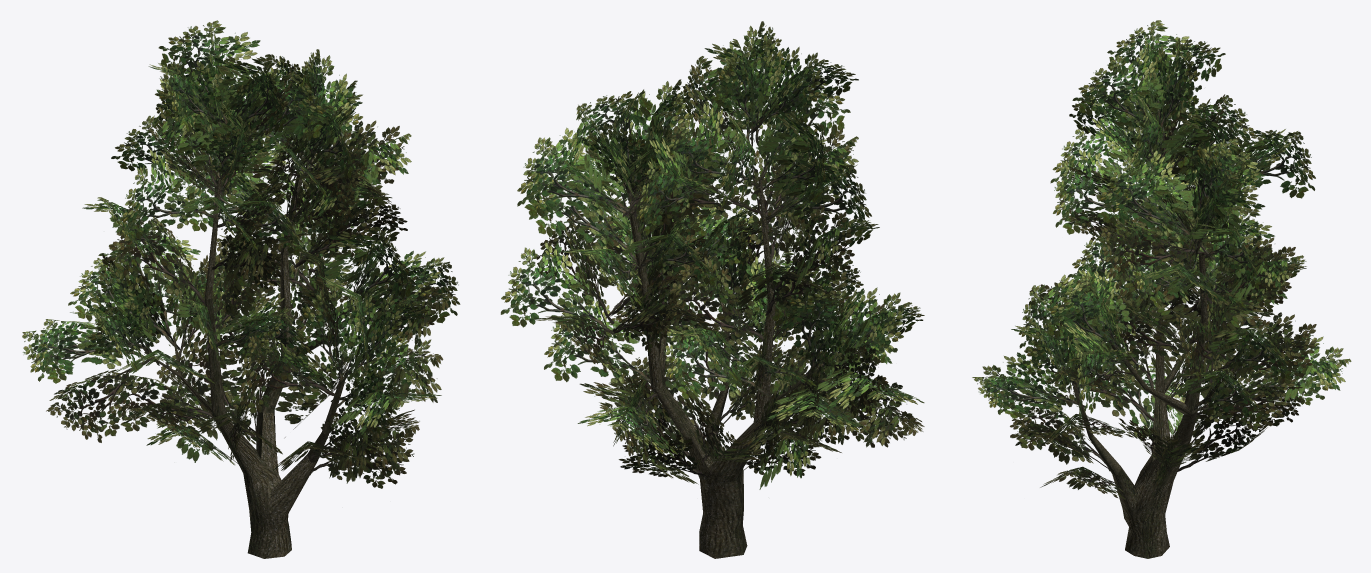
Rendered from tree701.glb.
The picture shows the model from 3 angles, left to right: view 1: azimuth 30°, elevation 25°; view 2: azimuth 150°, elevation 25°; view 3: azimuth 270°, elevation 25°; orthographic projection. The views are drawn at different scales.
Parts seen in each view (by area): view 1: tree701; view 2: tree701; view 3: tree701.
Part boxes in pixels (bbox=[...]): tree701: bbox=[22, 20, 460, 558]; tree701: bbox=[500, 21, 924, 558]; tree701: bbox=[972, 20, 1351, 558].
Size of the model in its own units: 16.3 by 20.94 by 14.85.
Materials: 2 (2 with a texture image).
